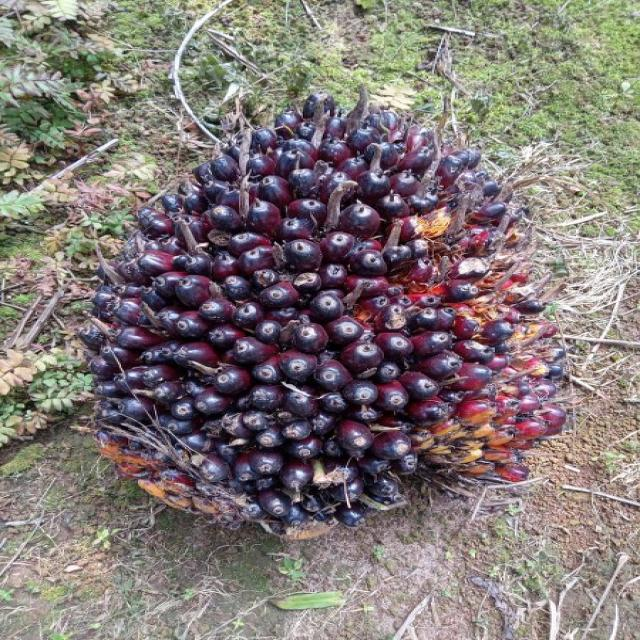fraksi 00: (37, 68, 601, 561)
